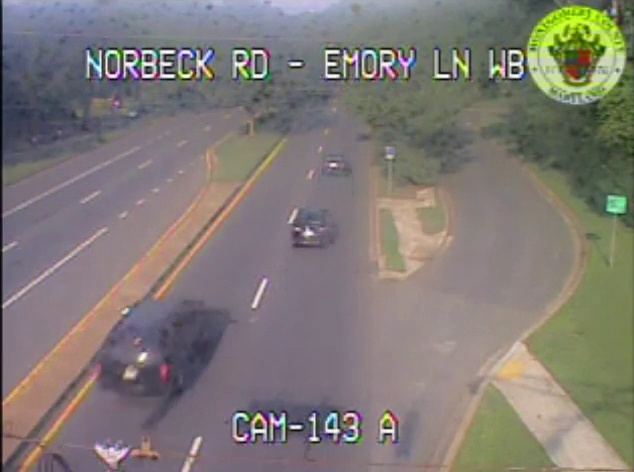car: (103, 299, 203, 396), (291, 209, 330, 247), (322, 155, 345, 174)
